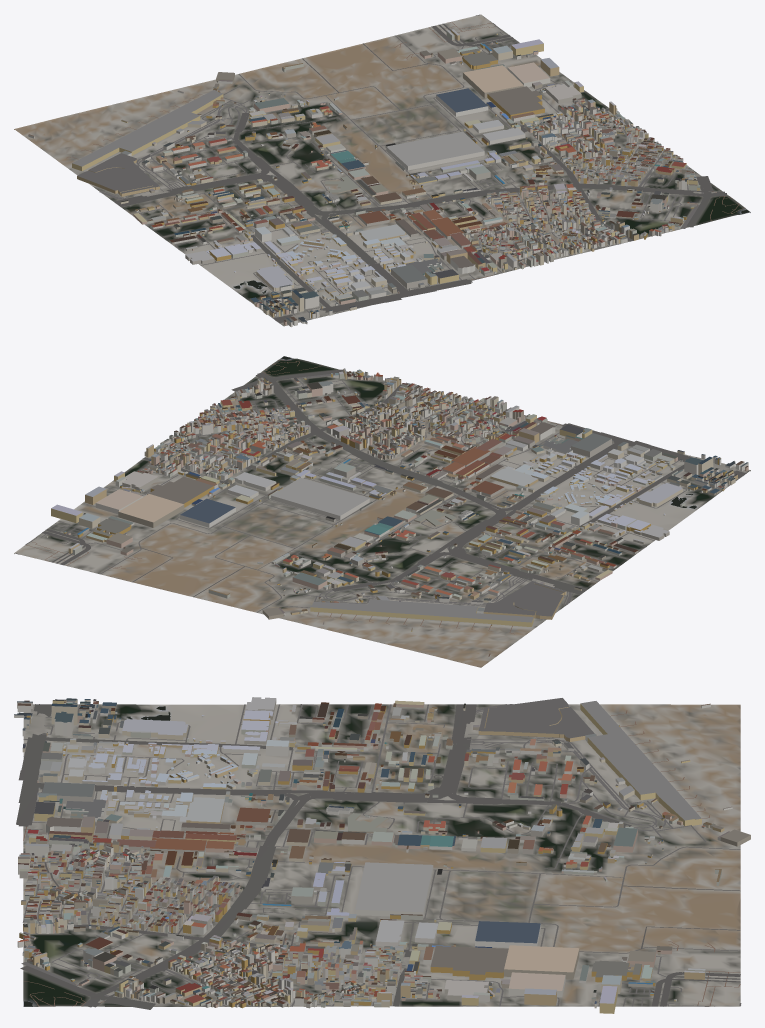
3 views of the same model, one above another, from view 1: azimuth 30°, elevation 25°; view 2: azimuth 150°, elevation 25°; view 3: azimuth 270°, elevation 25° (orthographic). The views are drawn at different scales.
Parts seen in each view (by area): view 1: buildings, ground, roads; view 2: buildings, ground, roads; view 3: ground, buildings, roads.
Boxes of the visible parts, left/top/right/bottom form: buildings: left=28, top=29, right=700, bottom=327; ground: left=14, top=14, right=750, bottom=326; roads: left=67, top=14, right=744, bottom=323; buildings: left=46, top=368, right=748, bottom=658; ground: left=14, top=356, right=750, bottom=667; roads: left=15, top=360, right=746, bottom=634; ground: left=23, top=704, right=740, bottom=1006; buildings: left=14, top=697, right=750, bottom=1013; roads: left=16, top=704, right=741, bottom=1009.
Size of the model in its own units: 1447 by 43.36 by 1439.
